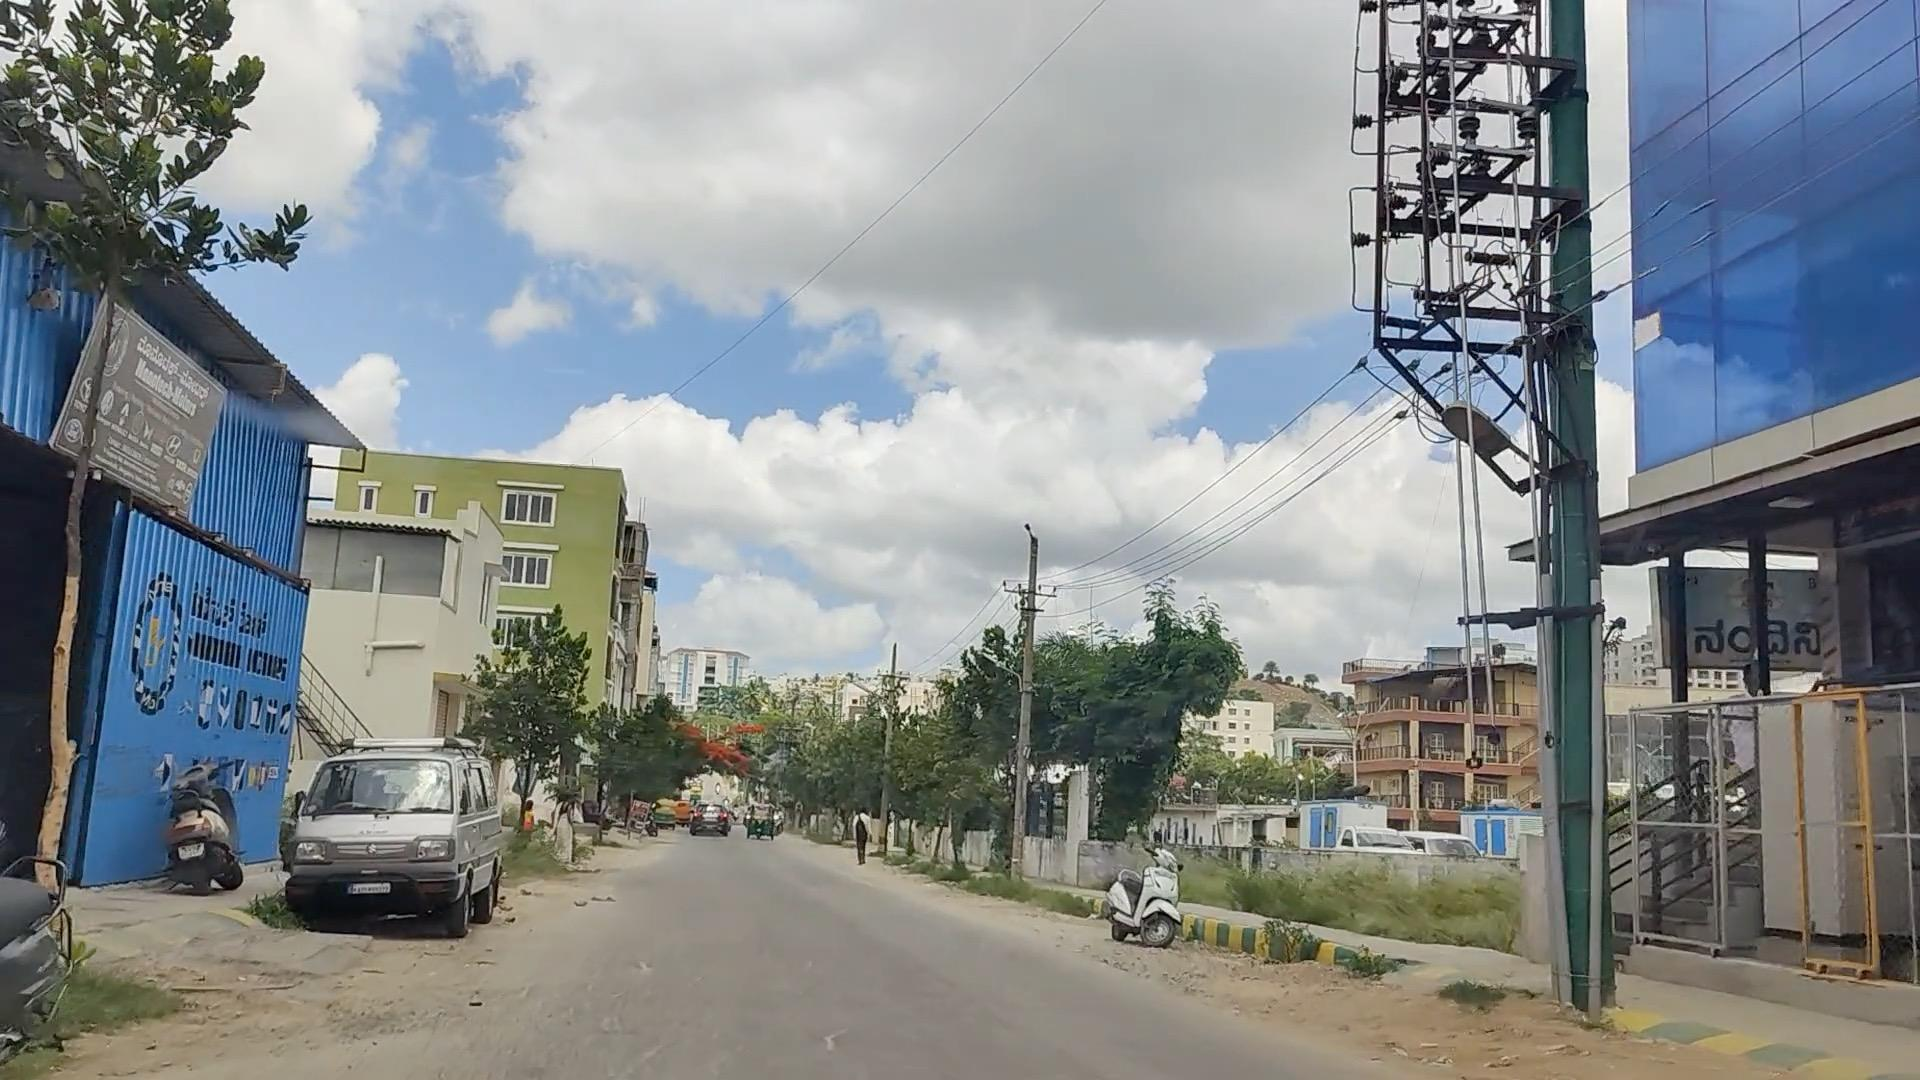LMV: (287, 725, 477, 930), (1102, 843, 1192, 952)
